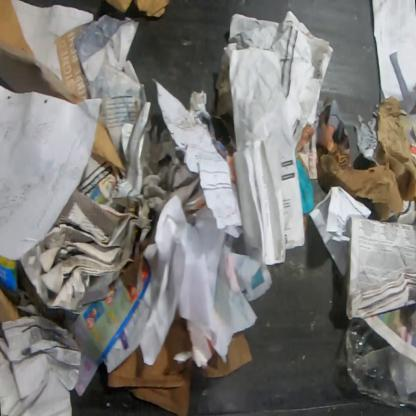cardboard: (106, 307, 253, 415), (0, 255, 20, 324), (134, 0, 171, 18), (104, 0, 133, 15)
soft_plastic: (345, 316, 415, 411)
